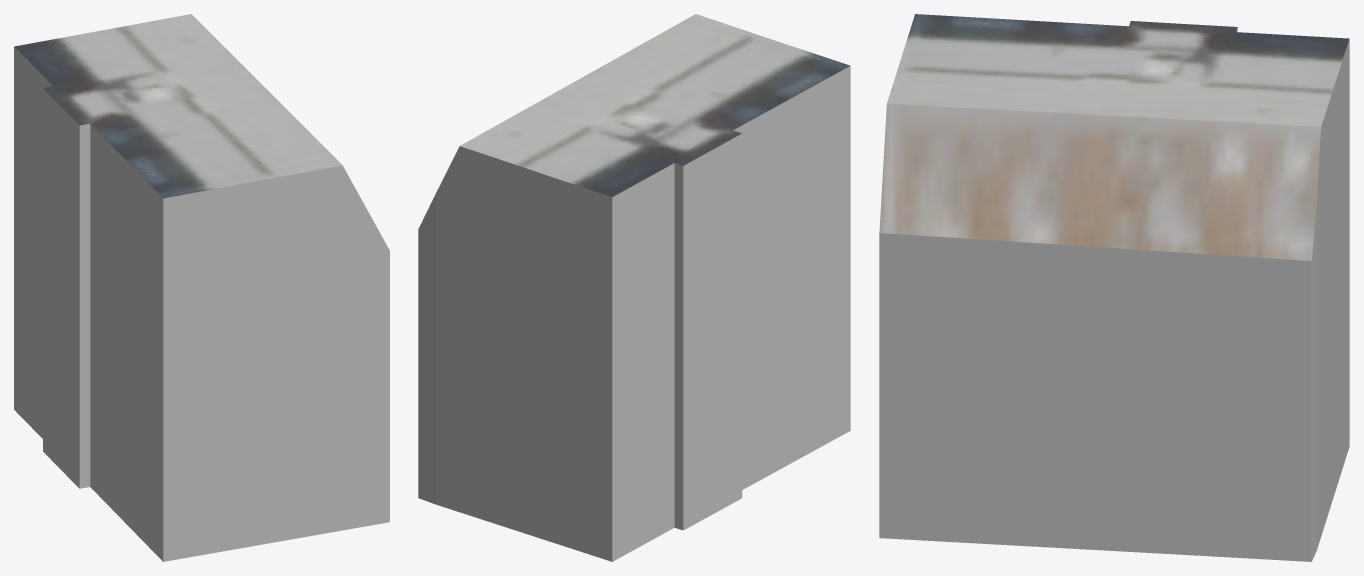
The model's file is DEBW_0010007Tx5y.gltf.
The picture shows the model from 3 angles, left to right: view 1: azimuth 30°, elevation 25°; view 2: azimuth 150°, elevation 25°; view 3: azimuth 270°, elevation 25°; orthographic projection. The views are drawn at different scales.
Visible parts, largest first — view 1: Z_UP; view 2: Z_UP; view 3: Z_UP.
Boxes of the visible parts, x1=… form: Z_UP: x1=14, y1=14, x2=389, y2=561; Z_UP: x1=418, y1=14, x2=850, y2=561; Z_UP: x1=879, y1=14, x2=1349, y2=561.
Size of the model in its own units: 12.56 by 17.24 by 17.9.
Materials: 2 (1 with a texture image).
